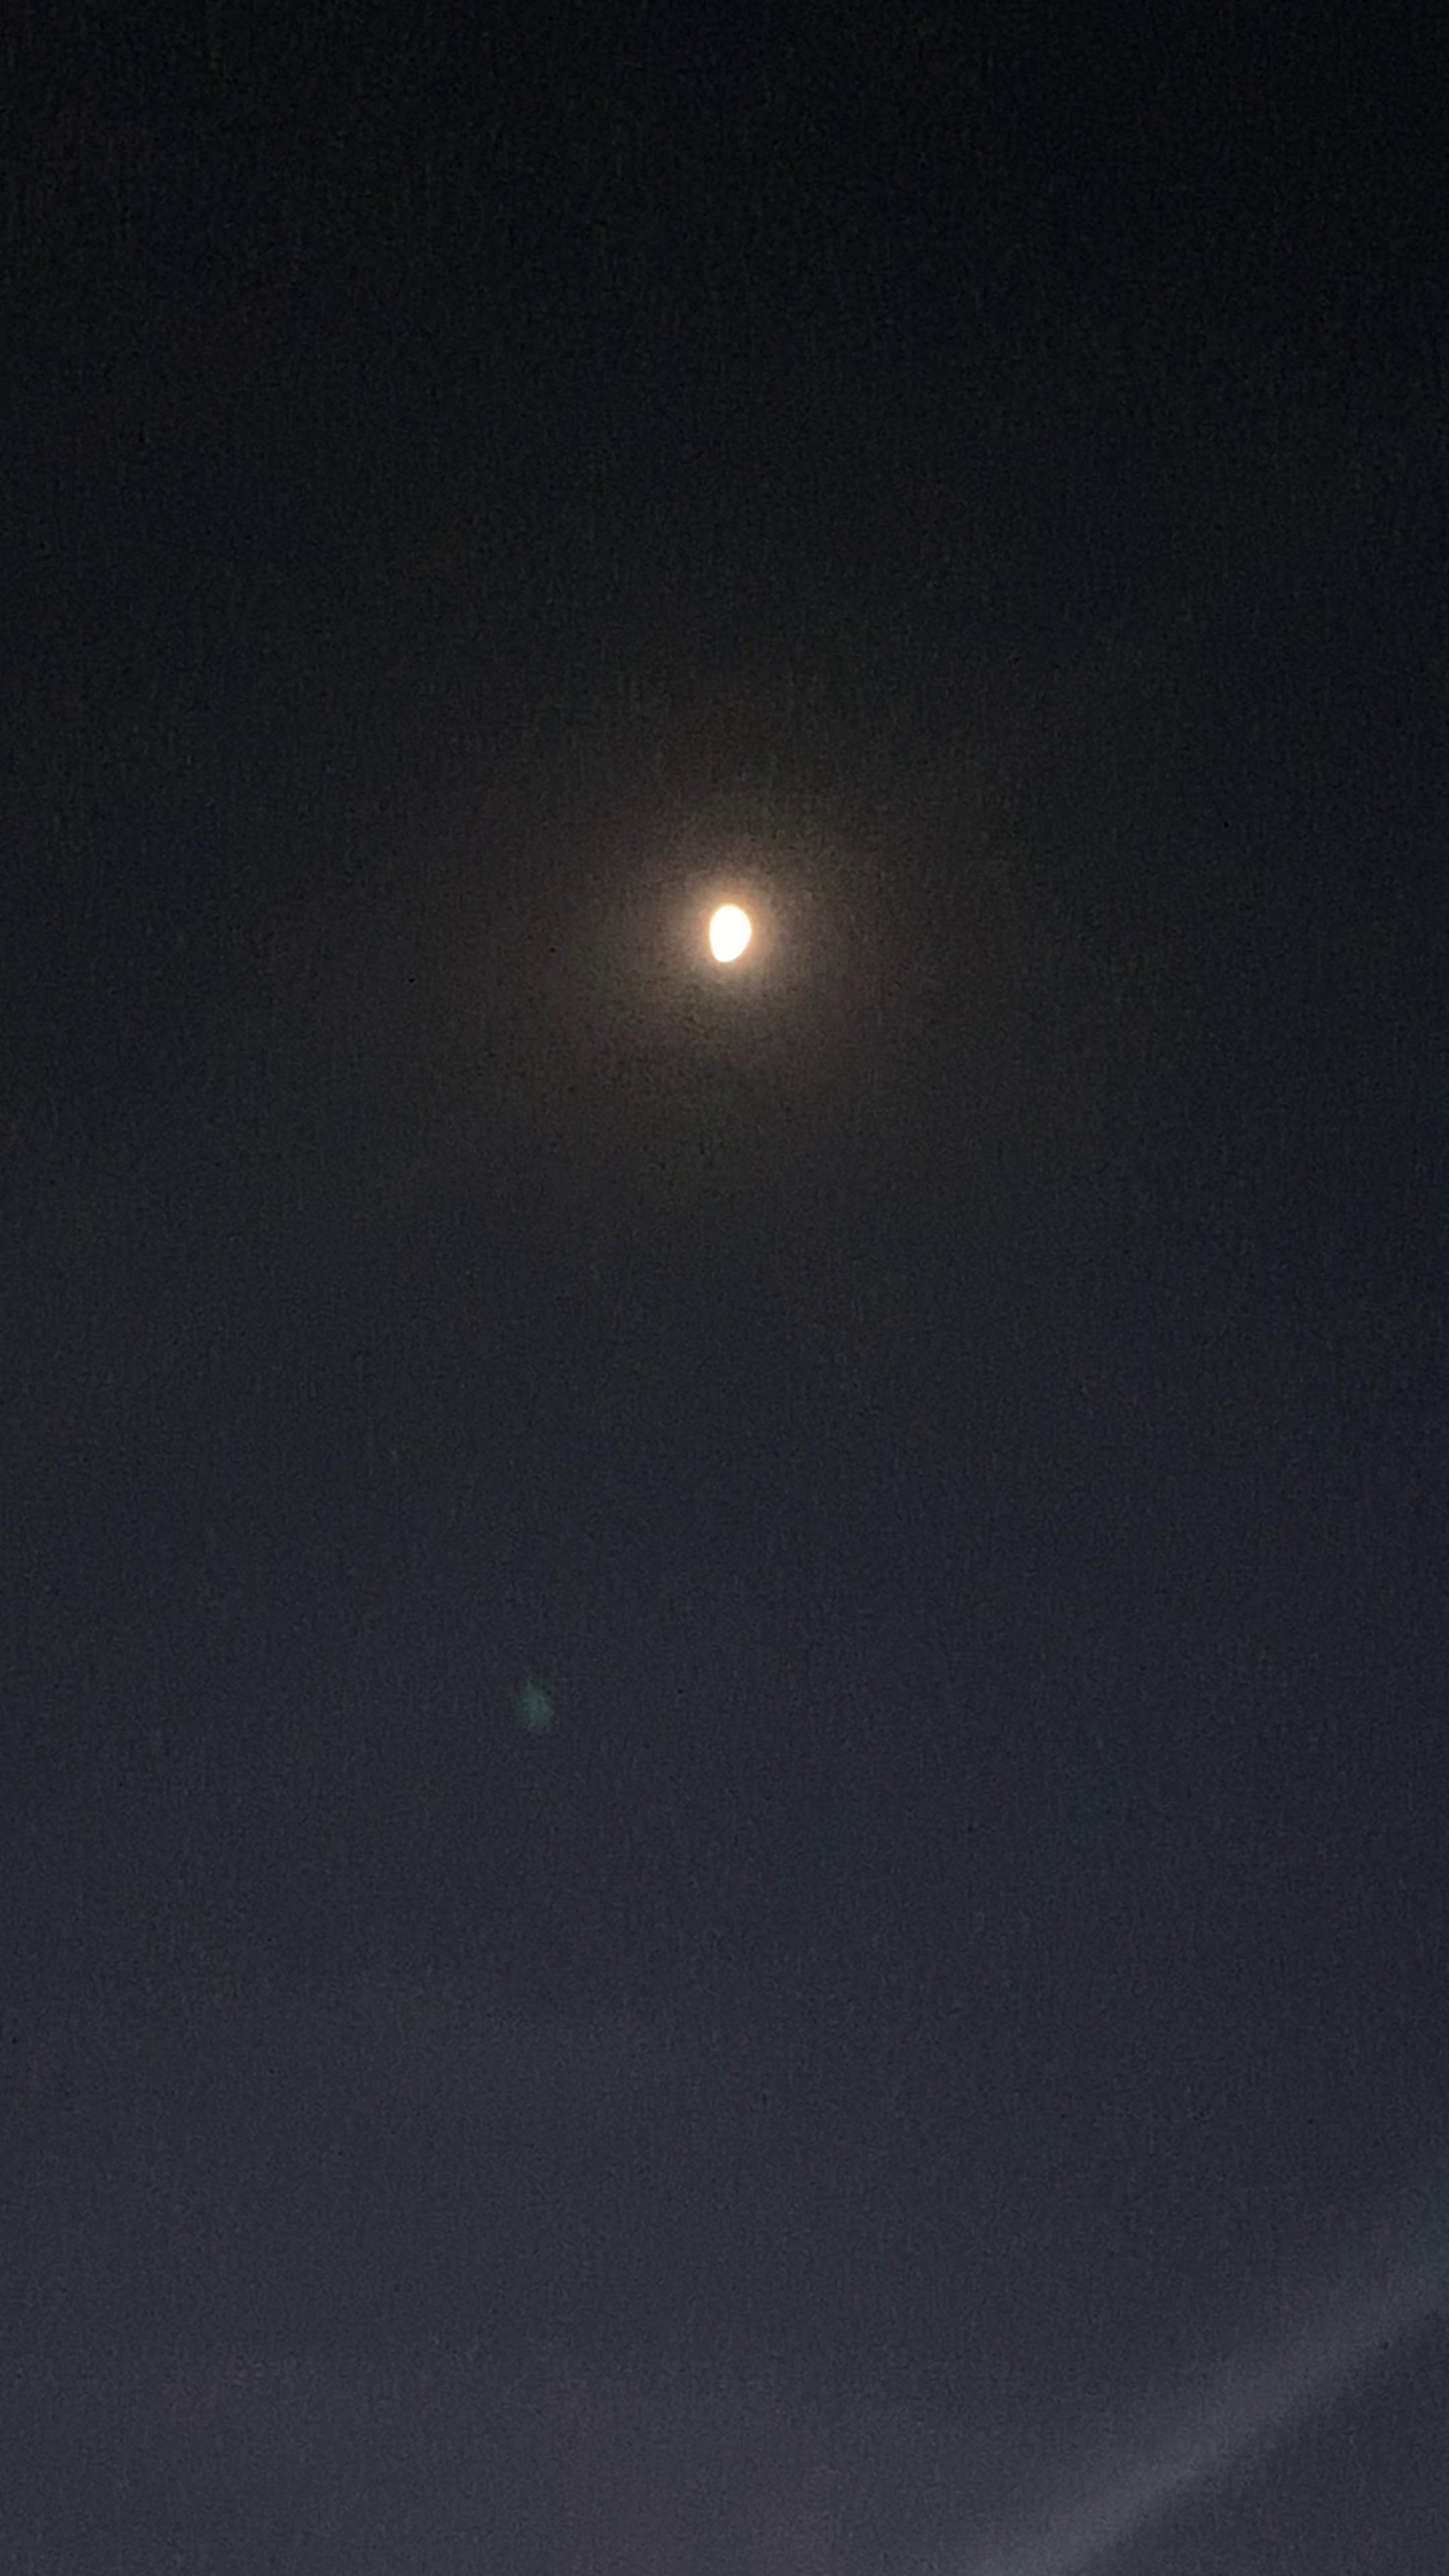moon: (692, 876, 791, 993)
